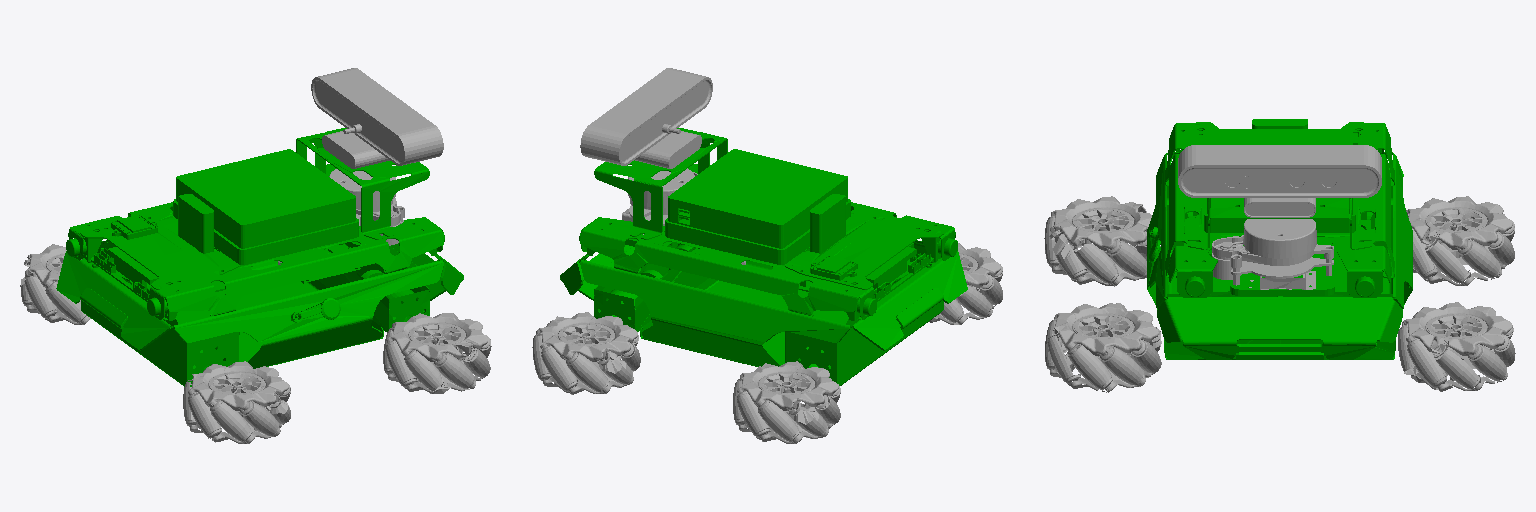
robot.urdf — mowen2:
<?xml version="1.0" encoding="utf-8"?>
<!-- mowen2 - mecanum wheel robot URDF (static version) -->
<robot name="mowen2">

  <link name="base_footprint"/>

  <link name="base_link">
    <inertial>
      <origin xyz="-0.0718509386127855 0.00738215784490594 0.119676355791491" rpy="0 0 0"/>
      <mass value="0.486218814966626"/>
      <inertia ixx="0.00196277727666921" ixy="2.50447049446755E-07" ixz="0.000140534767811098"
               iyy="0.00457256033711368" iyz="2.68618064993882E-07" izz="0.00493927269870476"/>
    </inertial>
    <visual>
      <origin xyz="0 0 0" rpy="0 0 0"/>
      <geometry>
        <mesh filename="package://robot_vs/config/mowen2_param/meshes/mecanum/base_link.STL"/>
      </geometry>
      <material name="Green">
        <color rgba="0 0.7 0 1"/>
      </material>
    </visual>
    <collision>
      <origin xyz="0 0 0" rpy="0 0 0"/>
      <geometry>
        <mesh filename="package://robot_vs/config/mowen2_param/meshes/mecanum/base_link.STL"/>
      </geometry>
    </collision>
  </link>

  <joint name="base_joint" type="fixed">
    <parent link="base_footprint"/>
    <child link="base_link"/>
    <origin xyz="0.0 0.0 0.0" rpy="0 0 0"/>
  </joint>

  <!-- front right wheel -->
  <link name="front_right_wheel">
    <inertial>
      <origin xyz="-0.199063466201963 0.152786006806629 0.0710729630656461" rpy="0 0 0"/>
      <mass value="0.051532"/>
      <inertia ixx="1.4595E-05" ixy="-4.3975E-10" ixz="4.415E-10"
               iyy="1.4594E-05" iyz="-1.7476E-09" izz="2.4264E-05"/>
    </inertial>
    <visual>
      <origin xyz="0 0 0" rpy="0 0 0"/>
      <geometry>
        <mesh filename="package://robot_vs/config/mowen2_param/meshes/mecanum/front_right_wheel.STL"/>
      </geometry>
      <material name="White">
        <color rgba="0.7 0.7 0.7 1"/>
      </material>
    </visual>
    <collision>
      <origin xyz="0 0 0" rpy="0 0 0"/>
      <geometry>
        <mesh filename="package://robot_vs/config/mowen2_param/meshes/mecanum/front_right_wheel.STL"/>
      </geometry>
    </collision>
  </link>
  <joint name="front_right_joint" type="continuous">
    <origin xyz="0.12721 -0.1454 0.048603" rpy="-1.5708 0 3.1416"/>
    <parent link="base_link"/>
    <child link="front_right_wheel"/>
    <axis xyz="0 1 0"/>
  </joint>

  <!-- front left wheel -->
  <link name="front_left_wheel">
    <inertial>
      <origin xyz="-0.199119784807379 -0.138021691116814 0.071103918576079" rpy="0 0 0"/>
      <mass value="0.051543"/>
      <inertia ixx="1.4597E-05" ixy="-4.7945E-10" ixz="-2.4786E-10"
               iyy="1.4598E-05" iyz="1.7972E-09" izz="2.4267E-05"/>
    </inertial>
    <visual>
      <origin xyz="0 0 0" rpy="0 0 0"/>
      <geometry>
        <mesh filename="package://robot_vs/config/mowen2_param/meshes/mecanum/front_left_wheel.STL"/>
      </geometry>
      <material name="White">
        <color rgba="0.7 0.7 0.7 1"/>
      </material>
    </visual>
    <collision>
      <origin xyz="0 0 0" rpy="0 0 0"/>
      <geometry>
        <mesh filename="package://robot_vs/config/mowen2_param/meshes/mecanum/front_left_wheel.STL"/>
      </geometry>
    </collision>
  </link>
  <joint name="front_left_joint" type="continuous">
    <origin xyz="0.12727 0.1454 0.048572" rpy="1.5708 0 0"/>
    <parent link="base_link"/>
    <child link="front_left_wheel"/>
    <axis xyz="0 1 0"/>
  </joint>

  <!-- back right wheel -->
  <link name="back_right_wheel">
    <inertial>
      <origin xyz="0.00792558007520176 0.152786006806629 0.0712769954892365" rpy="0 0 0"/>
      <mass value="0.051540174053366"/>
      <inertia ixx="1.45974152250002E-05" ixy="1.94850559178397E-10" ixz="-1.61846387282284E-09"
               iyy="1.4596501955693E-05" iyz="-6.27904057423818E-10" izz="2.42663091380451E-05"/>
    </inertial>
    <visual>
      <origin xyz="0 0 0" rpy="0 0 0"/>
      <geometry>
        <mesh filename="package://robot_vs/config/mowen2_param/meshes/mecanum/back_right_wheel.STL"/>
      </geometry>
      <material name="White">
        <color rgba="0.7 0.7 0.7 1"/>
      </material>
    </visual>
    <collision>
      <origin xyz="0 0 0" rpy="0 0 0"/>
      <geometry>
        <mesh filename="package://robot_vs/config/mowen2_param/meshes/mecanum/back_right_wheel.STL"/>
      </geometry>
    </collision>
  </link>
  <joint name="back_right_joint" type="continuous">
    <origin xyz="-0.079777 -0.1454 0.048399" rpy="-1.5708 0 3.1416"/>
    <parent link="base_link"/>
    <child link="back_right_wheel"/>
    <axis xyz="0 1 0"/>
  </joint>

  <!-- back left wheel -->
  <link name="back_left_wheel">
    <inertial>
      <origin xyz="0.00789687485202048 -0.138021691116814 0.0710896498186508" rpy="0 0 0"/>
      <mass value="0.0515309299357028"/>
      <inertia ixx="1.45942986129926E-05" ixy="-3.19787215398093E-10" ixz="1.74943062058915E-09"
               iyy="1.45948727598913E-05" iyz="1.61769812110049E-10" izz="2.4263683888153E-05"/>
    </inertial>
    <visual>
      <origin xyz="0 0 0" rpy="0 0 0"/>
      <geometry>
        <mesh filename="package://robot_vs/config/mowen2_param/meshes/mecanum/back_left_wheel.STL"/>
      </geometry>
      <material name="White">
        <color rgba="0.7 0.7 0.7 1"/>
      </material>
    </visual>
    <collision>
      <origin xyz="0 0 0" rpy="0 0 0"/>
      <geometry>
        <mesh filename="package://robot_vs/config/mowen2_param/meshes/mecanum/back_left_wheel.STL"/>
      </geometry>
    </collision>
  </link>
  <joint name="back_left_joint" type="continuous">
    <origin xyz="-0.079748 0.1454 0.048587" rpy="1.5708 0 0"/>
    <parent link="base_link"/>
    <child link="back_left_wheel"/>
    <axis xyz="0 1 0"/>
  </joint>

  <!-- IMU -->
  <link name="imu_link">
    <inertial>
      <origin xyz="-0.216043303058216 -0.0052321578449091 -0.0162763557914886" rpy="0 0 0"/>
      <mass value="0"/>
      <inertia ixx="0" ixy="0" ixz="0" iyy="0" iyz="0" izz="0"/>
    </inertial>
    <visual>
      <origin xyz="0 0 0" rpy="0 0 0"/>
      <geometry>
        <mesh filename="package://robot_vs/config/mowen2_param/meshes/sensor/imu_link.STL"/>
      </geometry>
      <material name="White">
        <color rgba="0.7 0.7 0.7 1"/>
      </material>
    </visual>
    <collision>
      <origin xyz="0 0 0" rpy="0 0 0"/>
      <geometry>
        <mesh filename="package://robot_vs/config/mowen2_param/meshes/sensor/imu_link.STL"/>
      </geometry>
    </collision>
  </link>
  <joint name="base_imu" type="fixed">
    <origin xyz="0.14419 0.00215 0.1034" rpy="3.1416 0 0"/>
    <parent link="base_link"/>
    <child link="imu_link"/>
  </joint>

  <!-- camera -->
  <link name="camera_link">
    <inertial>
      <origin xyz="-0.220993303058215 0.00787952902341162 -0.0803035792325282" rpy="0 0 0"/>
      <mass value="0"/>
      <inertia ixx="0" ixy="0" ixz="0" iyy="0" iyz="0" izz="0"/>
    </inertial>
    <visual>
      <origin xyz="0 0 0" rpy="0 0 0"/>
      <geometry>
        <mesh filename="package://robot_vs/config/mowen2_param/meshes/sensor/camera_link.STL"/>
      </geometry>
      <material name="White">
        <color rgba="0.7 0.7 0.7 1"/>
      </material>
    </visual>
    <collision>
      <origin xyz="0 0 0" rpy="0 0 0"/>
      <geometry>
        <mesh filename="package://robot_vs/config/mowen2_param/meshes/sensor/camera_link.STL"/>
      </geometry>
    </collision>
  </link>
  <joint name="camera_joint" type="fixed">
    <origin xyz="0.14914 -0.00049737 0.19998" rpy="0 0 0"/>
    <parent link="base_link"/>
    <child link="camera_link"/>
  </joint>

  <!-- lidar -->
  <link name="laser_link">
    <inertial>
      <origin xyz="-0.205591625169509 0.00738215784490645 -0.0163143442085112" rpy="0 0 0"/>
      <mass value="0.0483909504209895"/>
      <inertia ixx="1.58456966399128E-05" ixy="-4.23913983850005E-07" ixz="-2.09597897904374E-07"
               iyy="3.89262522903605E-05" iyz="3.24809725932687E-07" izz="4.86230801106223E-05"/>
    </inertial>
    <visual>
      <origin xyz="0 0 0" rpy="0 0 0"/>
      <geometry>
        <mesh filename="package://robot_vs/config/mowen2_param/meshes/sensor/laser_link.STL"/>
      </geometry>
      <material name="White">
        <color rgba="0.7 0.7 0.7 1"/>
      </material>
    </visual>
    <collision>
      <origin xyz="0 0 0" rpy="0 0 0"/>
      <geometry>
        <mesh filename="package://robot_vs/config/mowen2_param/meshes/sensor/laser_link.STL"/>
      </geometry>
    </collision>
  </link>
  <joint name="laser_joint" type="fixed">
    <origin xyz="0.13374 0 0.13599" rpy="0 0 0"/>
    <parent link="base_link"/>
    <child link="laser_link"/>
  </joint>

</robot>

--- What the picture shows (computed from the rendered views, not written in the file) ---
The picture shows the robot from 3 angles, left to right: view 1: azimuth 30°, elevation 25°; view 2: azimuth 150°, elevation 25°; view 3: azimuth 270°, elevation 25°; orthographic projection.
Model mowen2 with 9 links and 8 joints (4 continuous, 4 fixed), rooted at base_footprint, posed every joint at zero.
Links seen in each view (by area): view 1: base_link, camera_link, front_right_wheel, back_right_wheel, back_left_wheel, laser_link; view 2: base_link, camera_link, back_left_wheel, front_left_wheel, back_right_wheel, laser_link; view 3: base_link, camera_link, front_right_wheel, front_left_wheel, back_right_wheel, back_left_wheel, laser_link, imu_link.
Boxes of the visible links, x1,y1,x2,y2 form: base_link: [56, 128, 463, 386]; camera_link: [311, 68, 443, 168]; front_right_wheel: [383, 313, 491, 393]; back_right_wheel: [183, 361, 290, 443]; back_left_wheel: [20, 244, 90, 324]; laser_link: [329, 169, 404, 245]; base_link: [560, 128, 967, 385]; camera_link: [580, 68, 712, 168]; back_left_wheel: [733, 361, 840, 443]; front_left_wheel: [532, 312, 640, 394]; back_right_wheel: [929, 243, 1002, 324]; laser_link: [628, 168, 697, 225]; base_link: [1147, 119, 1412, 359]; camera_link: [1178, 145, 1381, 217]; front_right_wheel: [1045, 303, 1161, 392]; front_left_wheel: [1398, 302, 1515, 391]; back_right_wheel: [1044, 196, 1160, 286]; back_left_wheel: [1406, 196, 1514, 285]; laser_link: [1212, 219, 1333, 285]; imu_link: [1249, 271, 1315, 289].
Size in the robot's own frame: 0.3334 by 0.388 by 0.2136 metres.
Meshes: 8 distinct files referenced, 8 mesh visuals loaded (8 binary STL).
